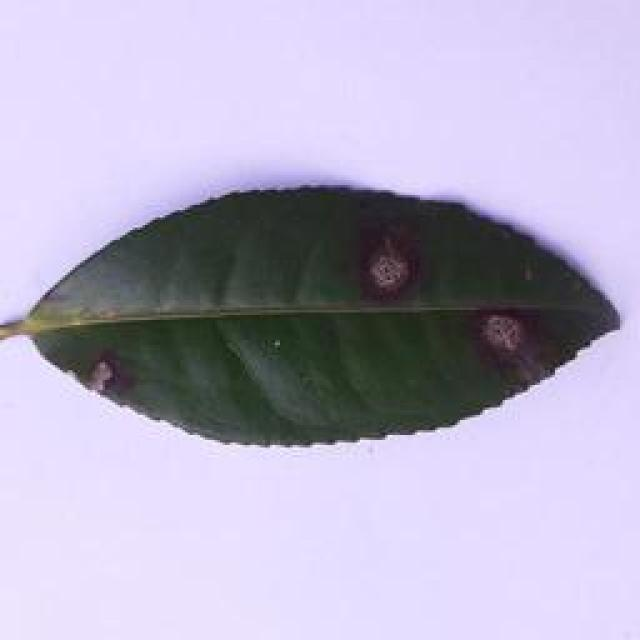Gray Blight: (3, 179, 625, 457)
